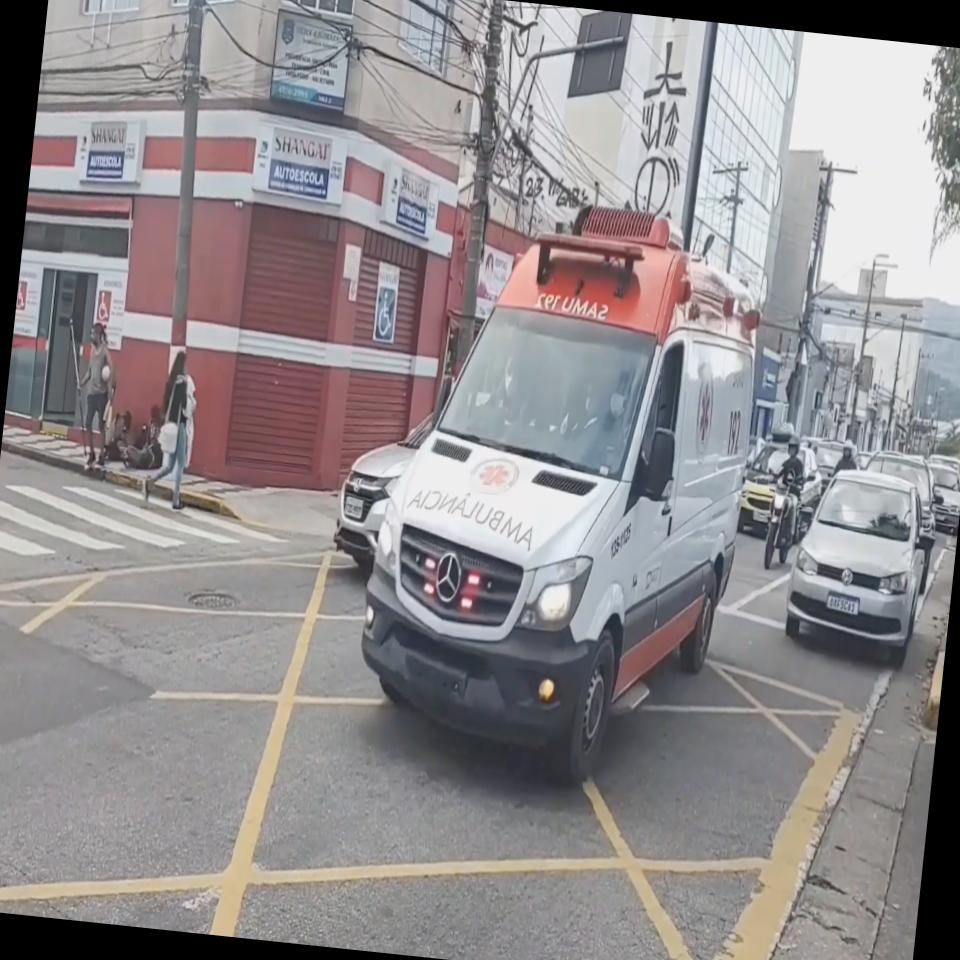bombeiro: (350, 185, 770, 794)
